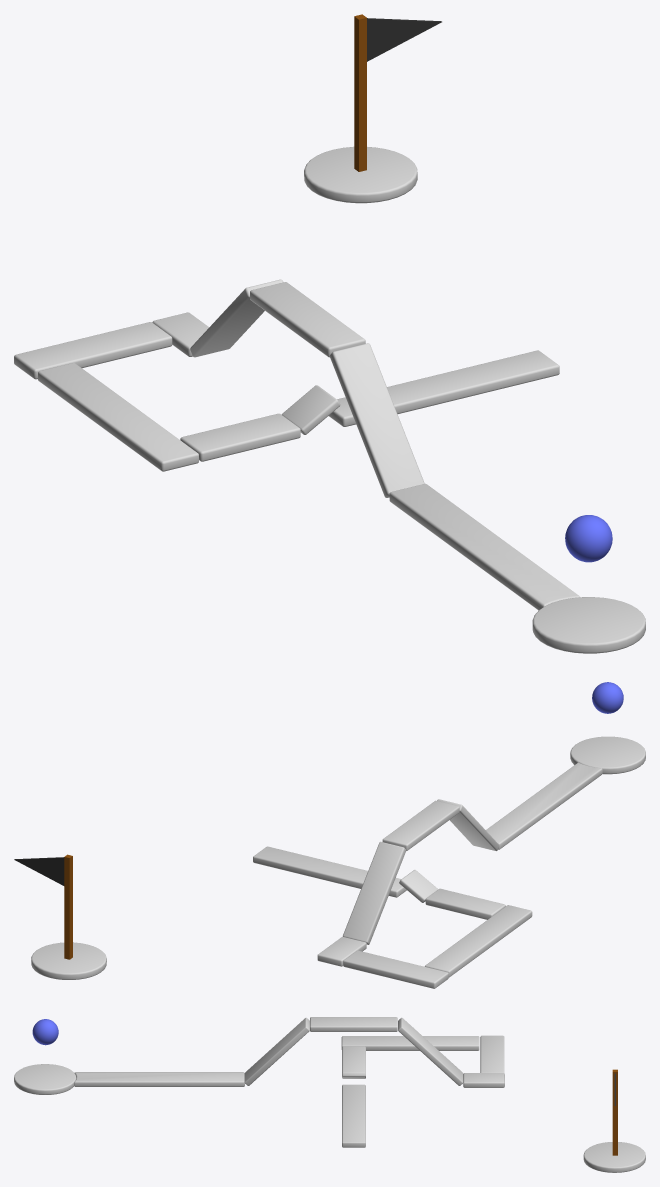
File: level2.glb
3 views of the same model, one above another, from view 1: azimuth 30°, elevation 25°; view 2: azimuth 150°, elevation 25°; view 3: azimuth 270°, elevation 25° (orthographic). The views are drawn at different scales.
Visible parts, largest first — view 1: Cube, Cube.001, Cube.006, Cube.009, Start, Finish, Cube.005, Cube.002, Flag, Cube.007, Cube.003, Player (+2 smaller); view 2: Cube, Cube.003, Cube.006, Cube.009, Finish, Start, Cube.005, Flag, Cube.002, Cube.007, Cube.001, Cube.004 (+2 smaller); view 3: Cube, Cube.006, Start, Finish, Cube.009, Cube.002, Cube.003, Cube.001, Cube.005, Cube.004, Cube.007, Player (+1 smaller).
Boxes of the visible parts, x1,y1,x2,y2 form: Cube: [389, 483, 580, 610]; Cube.001: [330, 343, 424, 497]; Cube.006: [38, 363, 198, 471]; Cube.009: [329, 350, 559, 426]; Start: [532, 597, 645, 653]; Finish: [304, 146, 417, 203]; Cube.005: [14, 322, 172, 379]; Cube.002: [250, 282, 365, 357]; Flag: [354, 14, 441, 171]; Cube.007: [180, 413, 300, 461]; Cube.003: [190, 279, 283, 357]; Player: [565, 515, 612, 562]; Cube: [486, 762, 602, 849]; Cube.003: [342, 841, 406, 944]; Cube.006: [425, 905, 532, 977]; Cube.009: [253, 846, 406, 897]; Finish: [31, 942, 106, 979]; Start: [570, 736, 645, 774]; Cube.005: [343, 950, 448, 988]; Flag: [14, 854, 72, 959]; Cube.002: [382, 800, 459, 850]; Cube.007: [425, 888, 505, 919]; Cube.001: [437, 799, 499, 851]; Cube.004: [317, 937, 366, 966]; Cube: [74, 1072, 244, 1086]; Cube.006: [341, 1036, 479, 1050]; Start: [14, 1064, 76, 1094]; Finish: [583, 1142, 645, 1172]; Cube.009: [342, 1084, 365, 1147]; Cube.002: [310, 1017, 397, 1031]; Cube.003: [398, 1017, 463, 1085]; Cube.001: [244, 1017, 309, 1085]; Cube.005: [480, 1035, 504, 1072]; Cube.004: [463, 1073, 504, 1087]; Cube.007: [342, 1046, 365, 1072]; Player: [32, 1019, 58, 1045].
Size of the model in its own units: 25.66 by 7.62 by 48.27.
